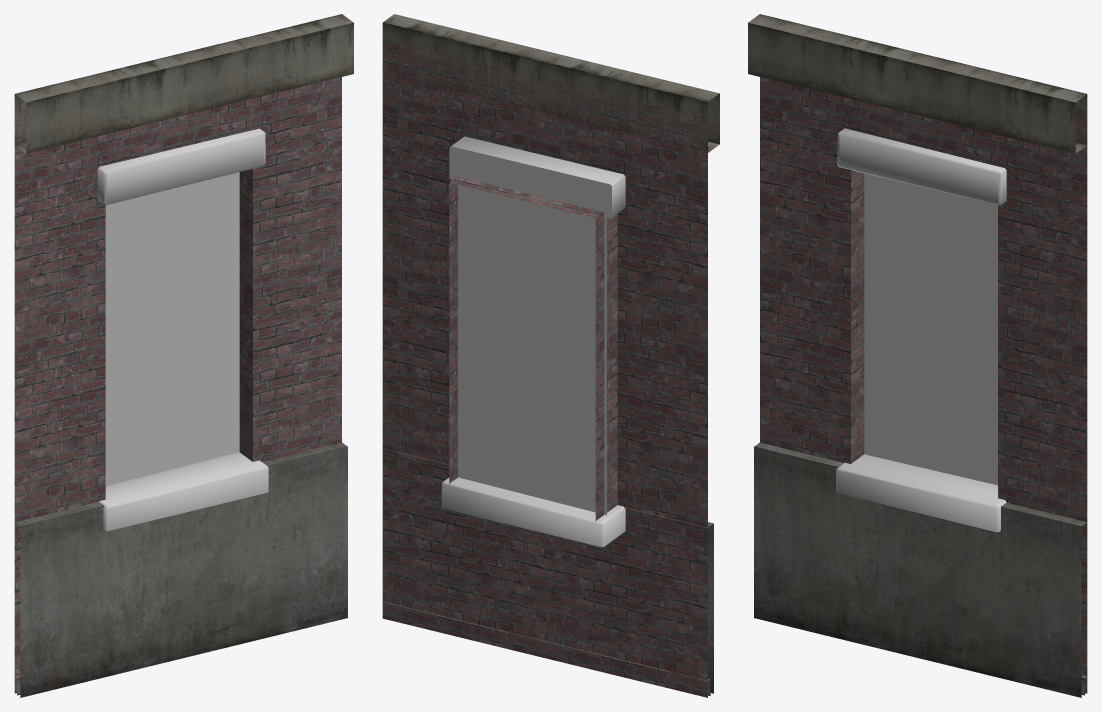
The model's file is Wall_B_Brick_Window_H_2x.FBX.
3 views of the same model, side by side, from view 1: azimuth 30°, elevation 25°; view 2: azimuth 150°, elevation 25°; view 3: azimuth 330°, elevation 25° (orthographic).
Parts seen in each view (by area): view 1: Wall_B_Brick_Window_H_2x; view 2: Wall_B_Brick_Window_H_2x; view 3: Wall_B_Brick_Window_H_2x.
Boxes of the visible parts, bbox=[...] form: Wall_B_Brick_Window_H_2x: bbox=[14, 14, 353, 697]; Wall_B_Brick_Window_H_2x: bbox=[382, 14, 719, 697]; Wall_B_Brick_Window_H_2x: bbox=[748, 14, 1087, 697].
Bounding box in the file's own units: 200 × 350 × 36.33.
